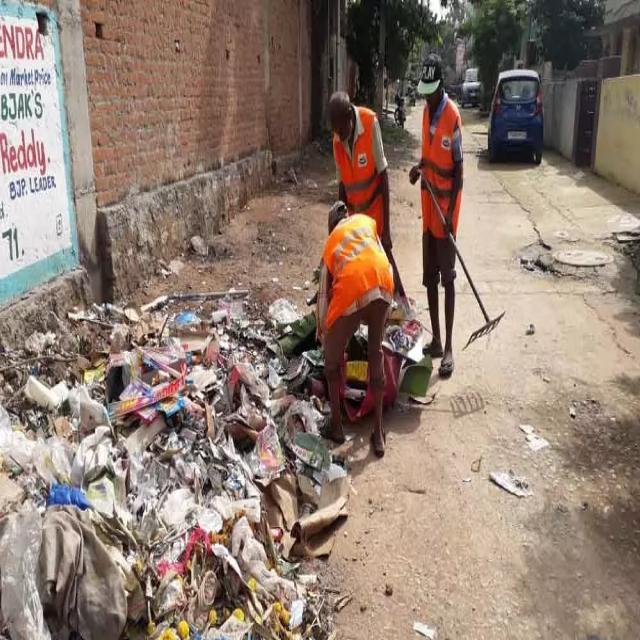garbage: (0, 236, 446, 638)
